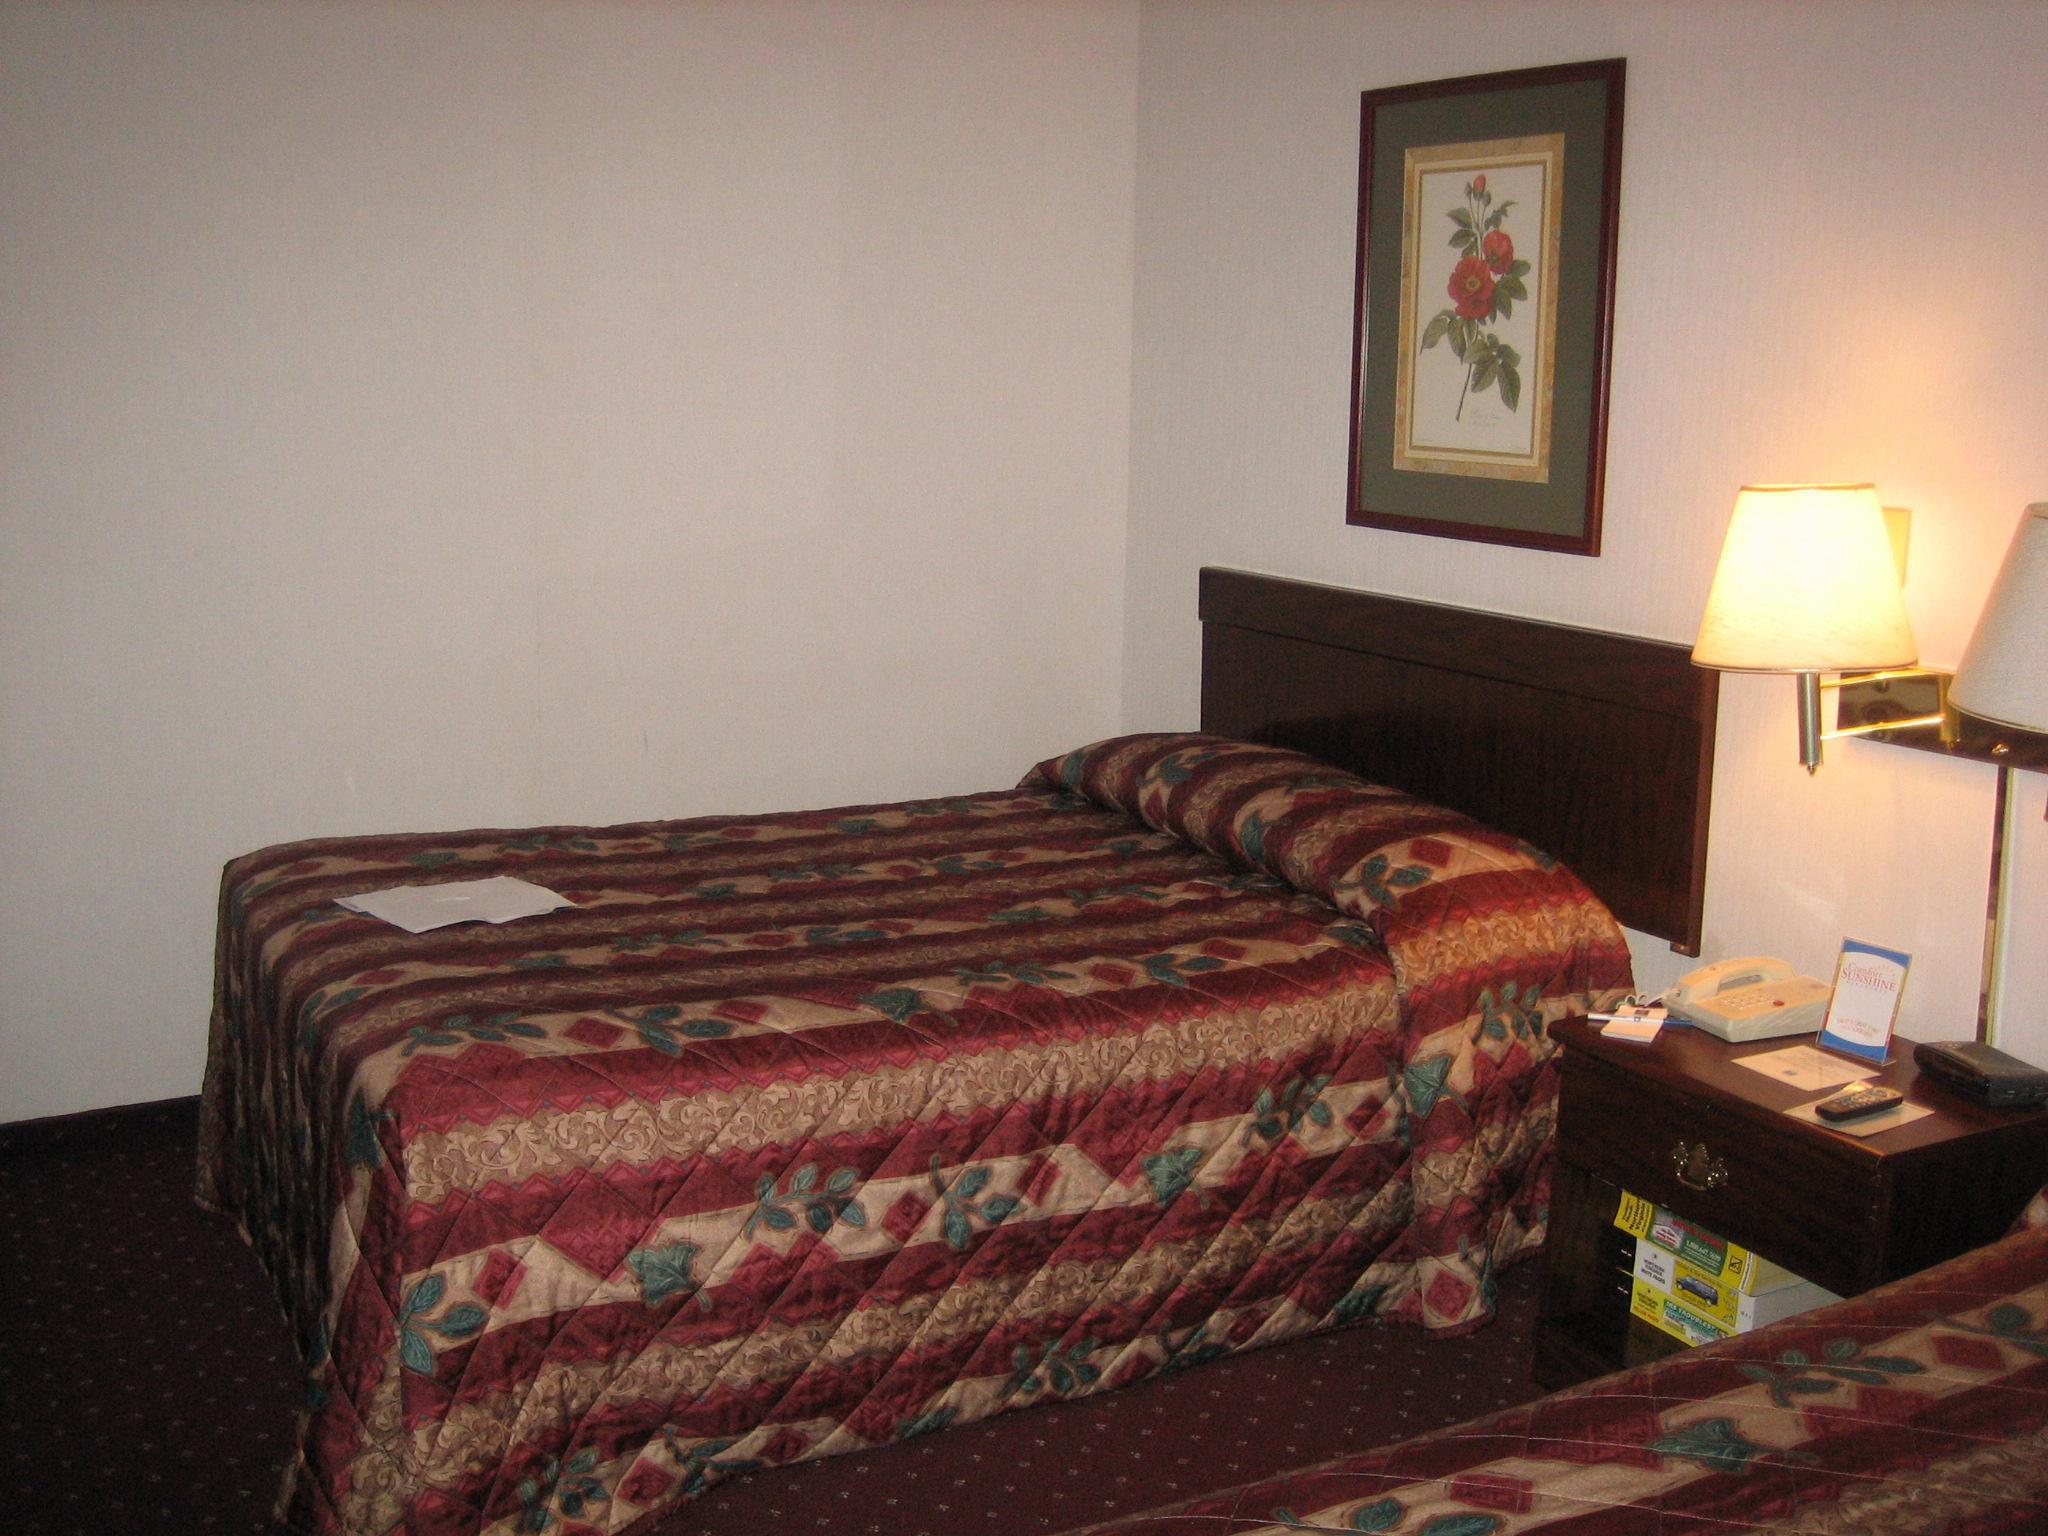Cama: (184, 541, 1709, 1526)
